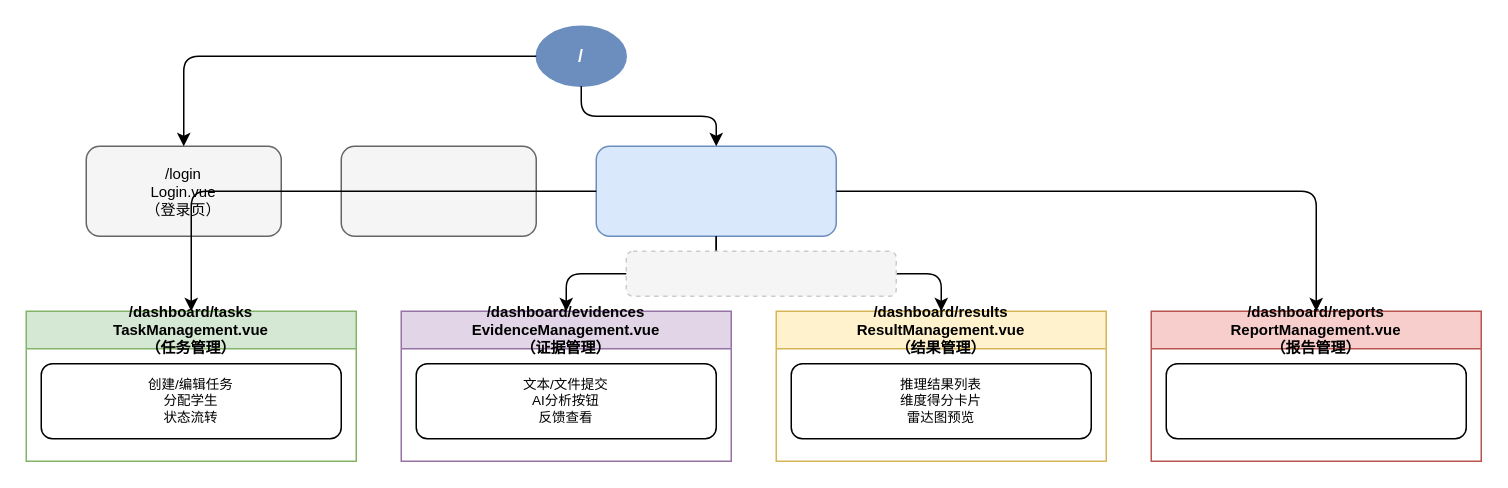
The diagram is 1508 pixels wide and 488 high, and some of its shapes have lost their labels. Here are the shapes that lost their labels. From the top down, the box of each, then its label:
(340, 145, 536, 236): /register Register.vue （注册页）
(595, 145, 836, 236): /dashboard Dashboard.vue （布局容器）
(625, 250, 896, 296): 教师端：tasks / results / reports 学生端：evidences / results / reports
(1165, 362, 1466, 439): 综合报告弹窗 雷达图/柱状图/饼图 班级对比/改进建议
